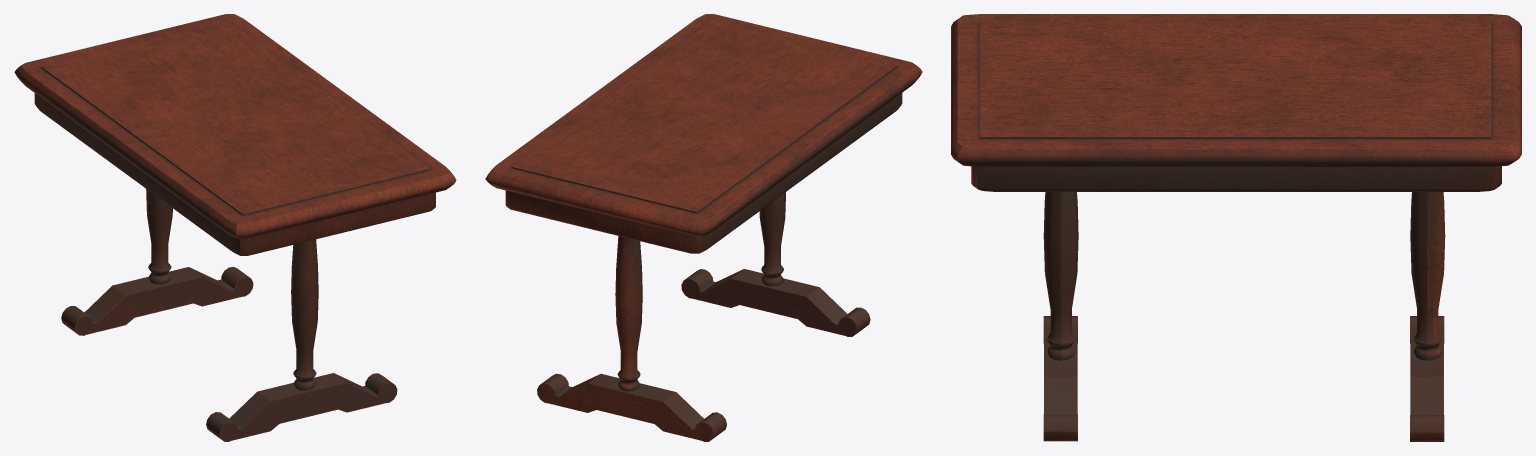
The model's file is SM_Conference_Desk.fbx.
3 renders of one model, left to right at view 1: azimuth 30°, elevation 25°; view 2: azimuth 150°, elevation 25°; view 3: azimuth 270°, elevation 25°, orthographic. The views are drawn at different scales.
Visible parts, largest first — view 1: SM_Conference_Desk; view 2: SM_Conference_Desk; view 3: SM_Conference_Desk.
Boxes of the visible parts, x1,y1,x2,y2 form: SM_Conference_Desk: [14, 14, 456, 441]; SM_Conference_Desk: [485, 14, 922, 441]; SM_Conference_Desk: [951, 14, 1521, 441].
Size of the model in its own units: 100 by 174 by 106.
1 material, 1 textured.
